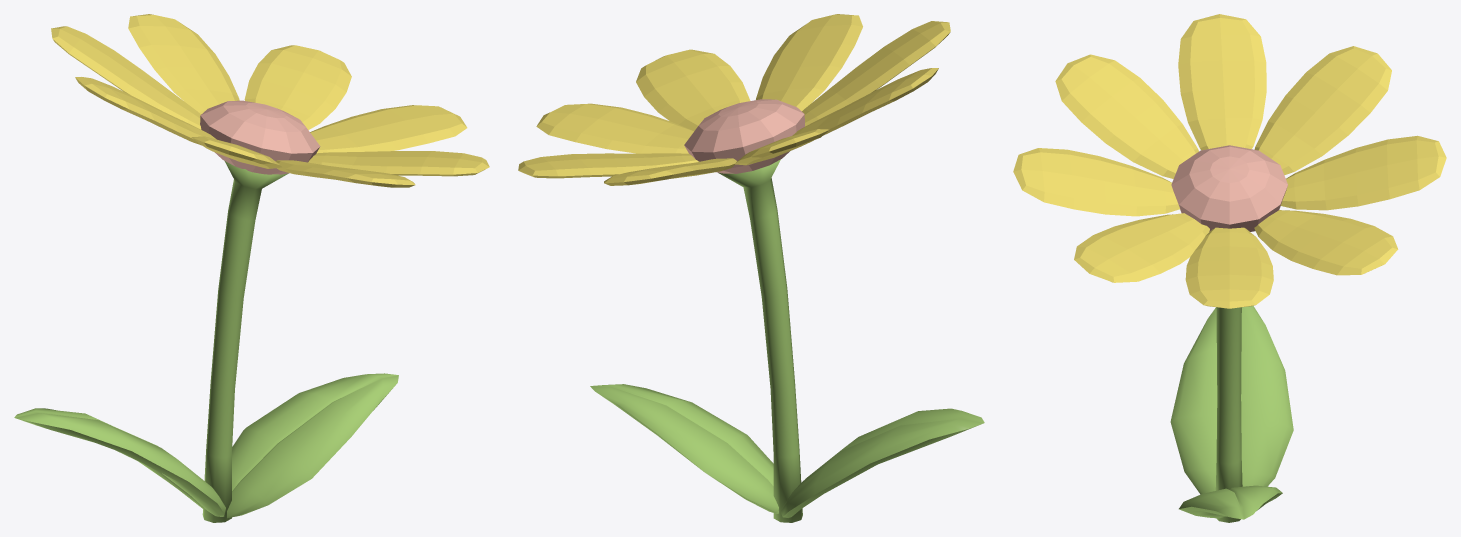
Rendered from Flower_02.fbx.
3 views of the same model, side by side, from view 1: azimuth 30°, elevation 25°; view 2: azimuth 150°, elevation 25°; view 3: azimuth 270°, elevation 25° (orthographic). The views are drawn at different scales.
Visible parts, largest first — view 1: 平面; view 2: 平面; view 3: 平面.
Boxes of the visible parts, box(x1,y1,x2,y2) form: 平面: box(14, 14, 489, 522); 平面: box(518, 14, 984, 522); 平面: box(1013, 14, 1446, 522).
Bounding box in the file's own units: 32.1 × 32.48 × 29.02.
